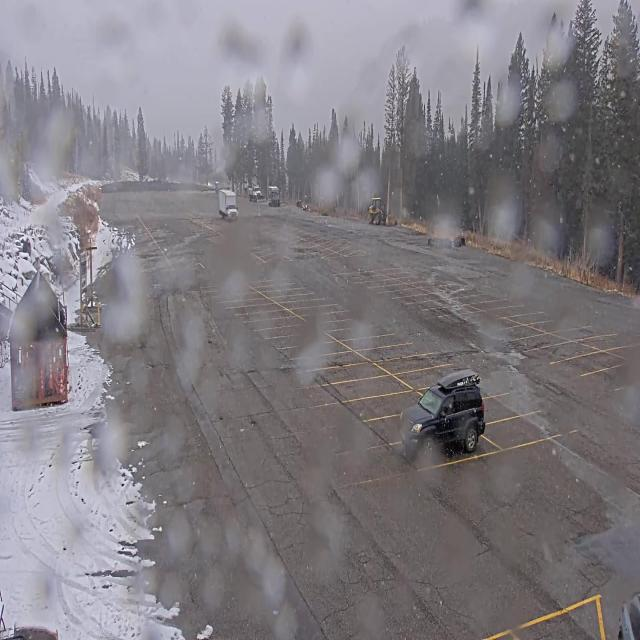available: (486, 408, 544, 444), (296, 344, 358, 373), (348, 386, 398, 417), (372, 336, 442, 357), (478, 387, 524, 417), (389, 348, 450, 369), (350, 372, 394, 401), (326, 362, 377, 387), (402, 364, 465, 382), (542, 338, 584, 364), (368, 416, 402, 444), (574, 351, 609, 375), (564, 323, 606, 339), (522, 328, 554, 348), (605, 345, 636, 364), (590, 332, 618, 351), (503, 323, 535, 338)
occupied: (407, 369, 485, 454)
